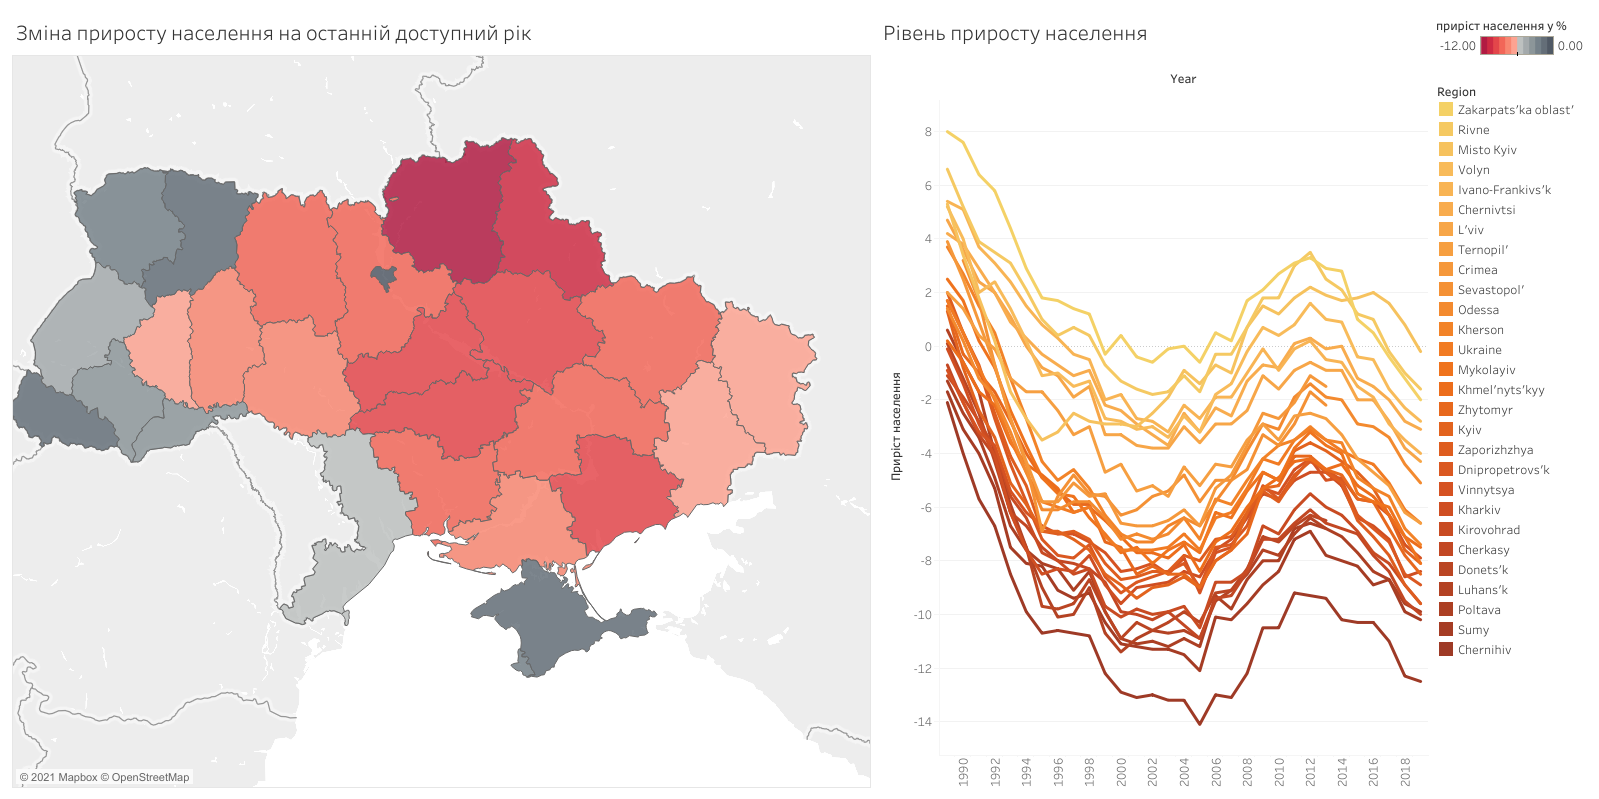

Layout of this report page (visuals, bound fields, positions):
{"tool":"tableau","page":{"name":"Dashboard 1","canvas":[1600,800],"ordinal":0},"visuals":[{"type":"worksheet","title":"Sheet 1","mark":"Multipolygon","box":[8,8,867,784]},{"type":"worksheet","title":"Sheet 2","mark":"Line","rows":["rate"],"cols":["year"],"box":[875,8,557,784]},{"type":"legend","title":"Sheet 1","param":"[federated.175aal209gsqak14677ox1mz17wn].[avg:latest rate:qk]","box":[1432,8,160,65]},{"type":"legend","title":"Sheet 2","param":"[federated.175aal209gsqak14677ox1mz17wn].[none:region:nk]","box":[1432,73,160,586]}]}

Visuals, with their boxes in screenshot pixels (x1, y1, x2, y2), scaled from the page's 1600x800 canvas onto the 1599x799 screenshot:
"Sheet 1" worksheet (Multipolygon marks): <box>8,8,874,791</box>
"Sheet 2" worksheet (Line marks): <box>874,8,1431,791</box>
"Sheet 1" legend: <box>1431,8,1591,73</box>
"Sheet 2" legend: <box>1431,73,1591,658</box>
